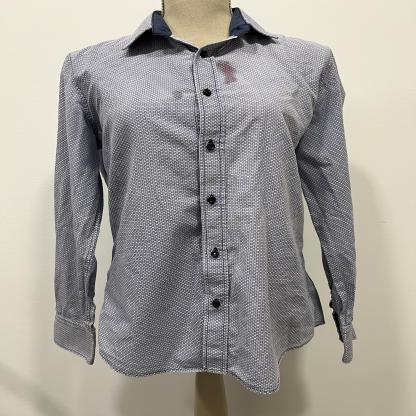stain: (210, 56, 241, 87), (169, 88, 188, 102)
